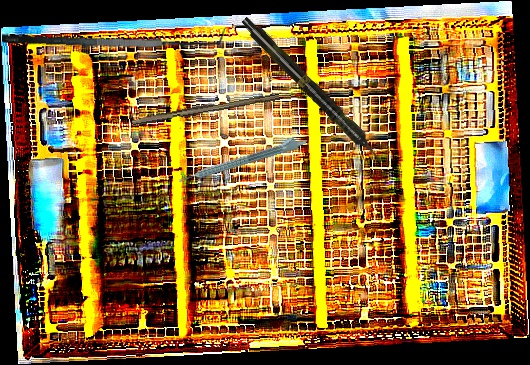Handpiece: (237, 13, 388, 168), (175, 131, 309, 186)
Scalpel Handle: (131, 88, 280, 129)
Spatula Surgical: (1, 15, 226, 57)
